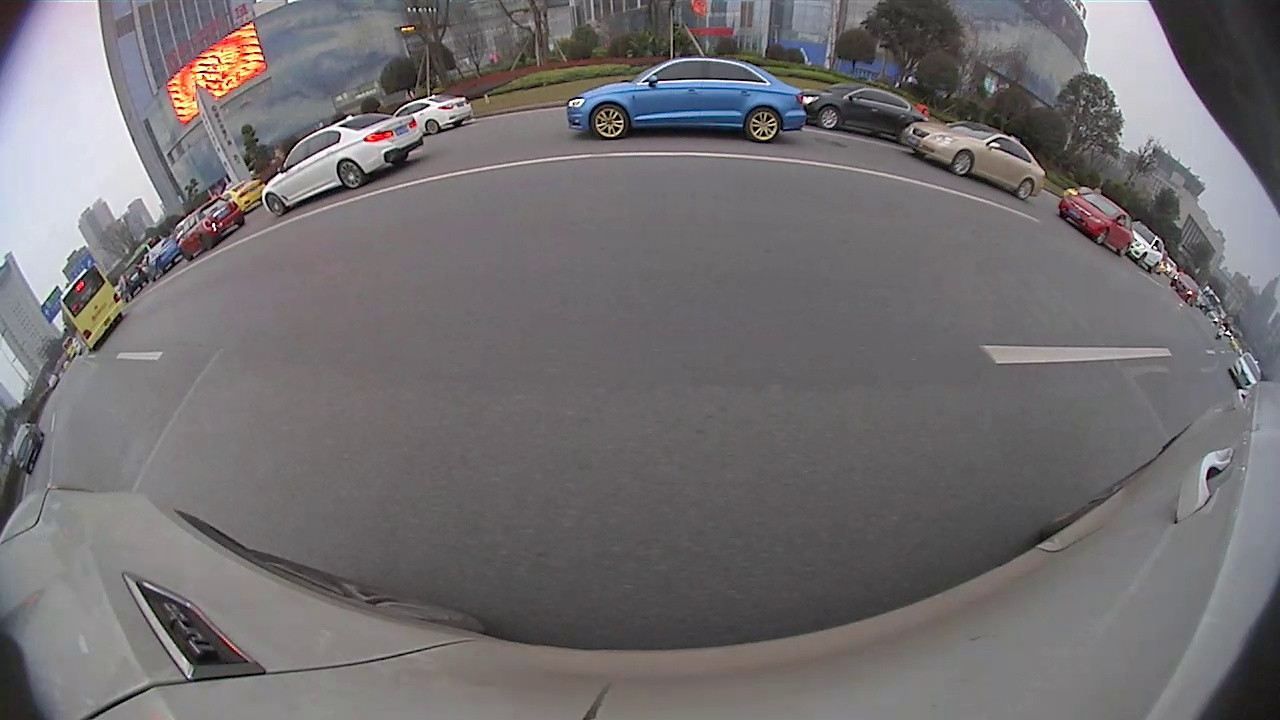bus: (60, 263, 128, 351)
car: (563, 55, 809, 140), (262, 112, 421, 220), (901, 119, 1049, 204), (797, 84, 929, 142), (1056, 189, 1131, 258), (177, 194, 242, 261), (396, 92, 478, 135), (1128, 220, 1165, 273)
front: (586, 100, 631, 143), (817, 103, 842, 134), (950, 149, 975, 179), (265, 189, 289, 217), (1090, 228, 1109, 246)
rear: (741, 105, 783, 143), (336, 157, 369, 191), (1014, 178, 1032, 201), (393, 149, 411, 169), (424, 118, 440, 137)
